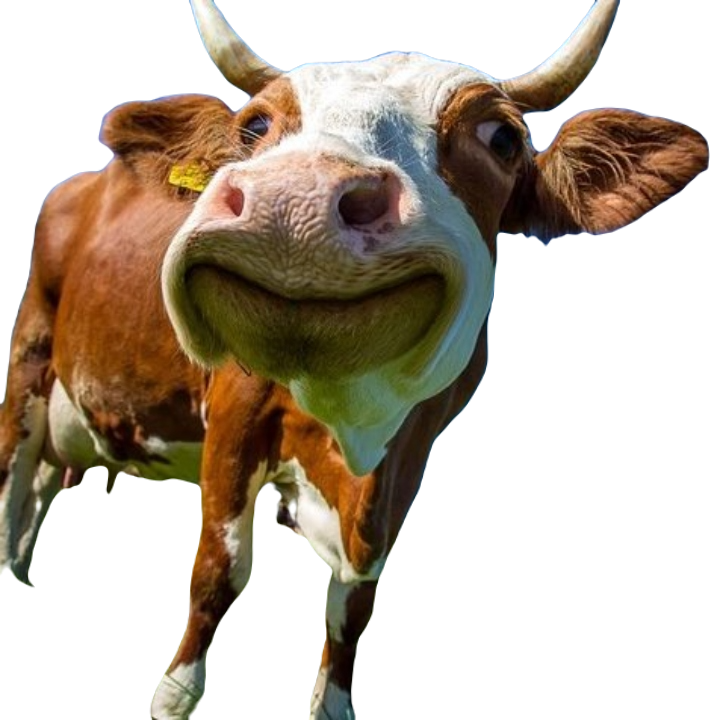Cow: (0, 0, 713, 719)
